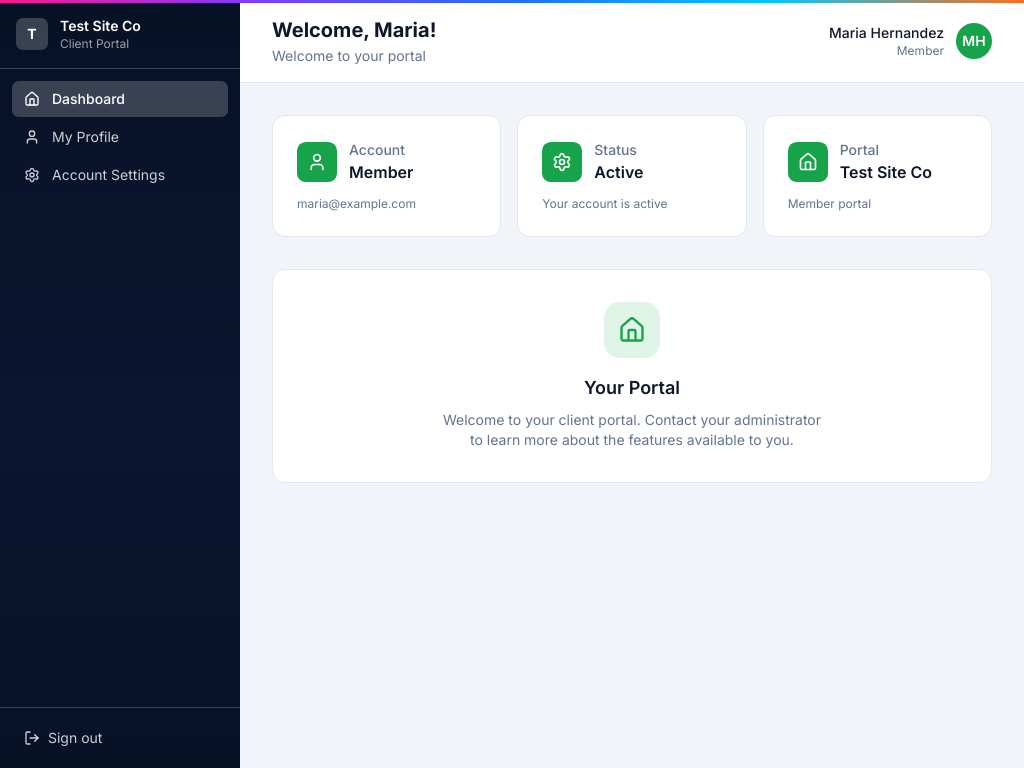
Test: P5 FIX 1a — sidebar NavLinks are real interactive buttons › clicking Account Settings switches to the password section
What coordinates should you click on to do the following:
click the button "Account Settings"
I would click on:
 (120, 175)
Its box is [12,157,228,193].
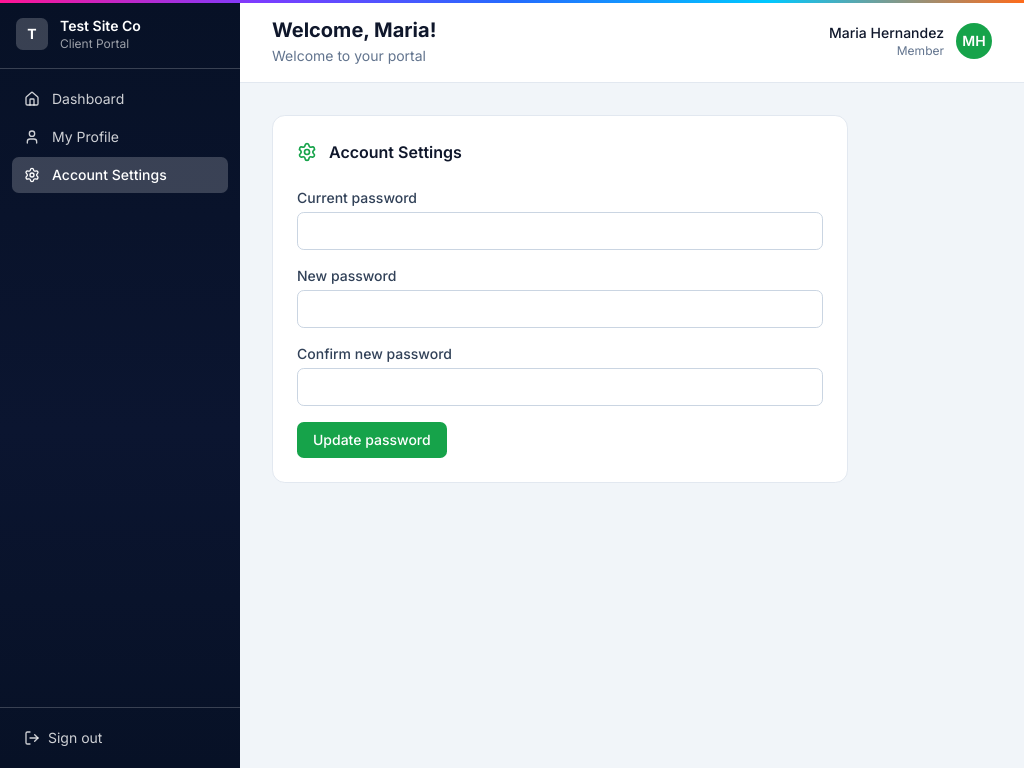
Now the element with test id "portal-password-section" is shown, box [272,115,848,483]
